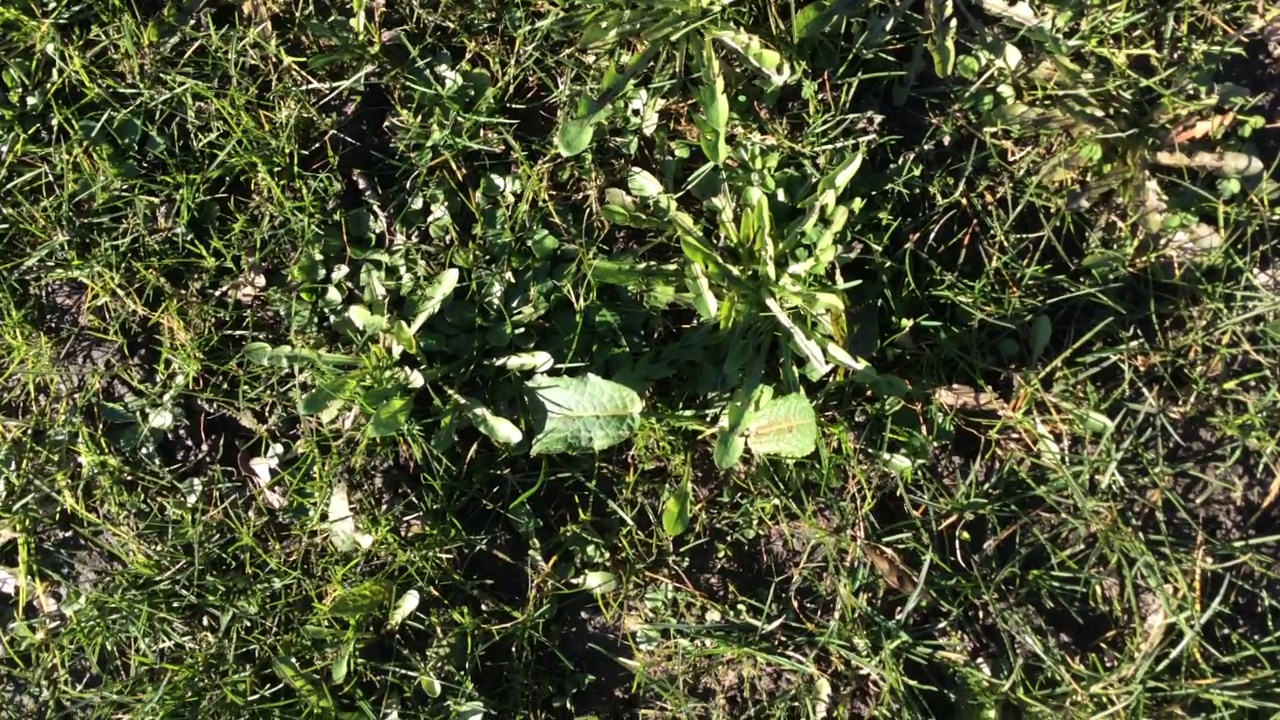rumex: (503, 374, 645, 458), (727, 395, 818, 458)
